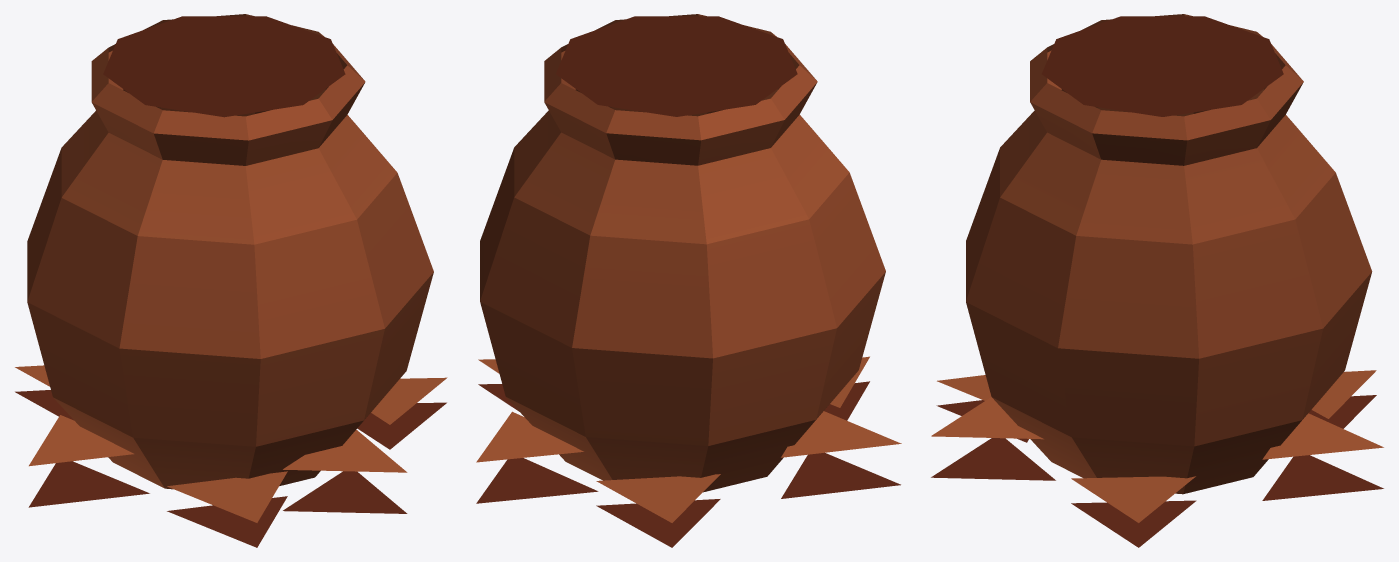
File: kit_pot.glb
3 views of the same model, side by side, from view 1: azimuth 30°, elevation 25°; view 2: azimuth 150°, elevation 25°; view 3: azimuth 270°, elevation 25° (orthographic).
Visible parts, largest first — view 1: pot_whole, pot_shards; view 2: pot_whole, pot_shards; view 3: pot_whole, pot_shards.
Part boxes in pixels (<box>): pot_whole: <box>27,14,433,489</box>; pot_shards: <box>15,365,447,547</box>; pot_whole: <box>480,14,885,492</box>; pot_shards: <box>476,356,901,547</box>; pot_whole: <box>966,14,1372,494</box>; pot_shards: <box>931,370,1383,547</box>.
Size of the model in its own units: 3.21 by 2.76 by 2.99.
